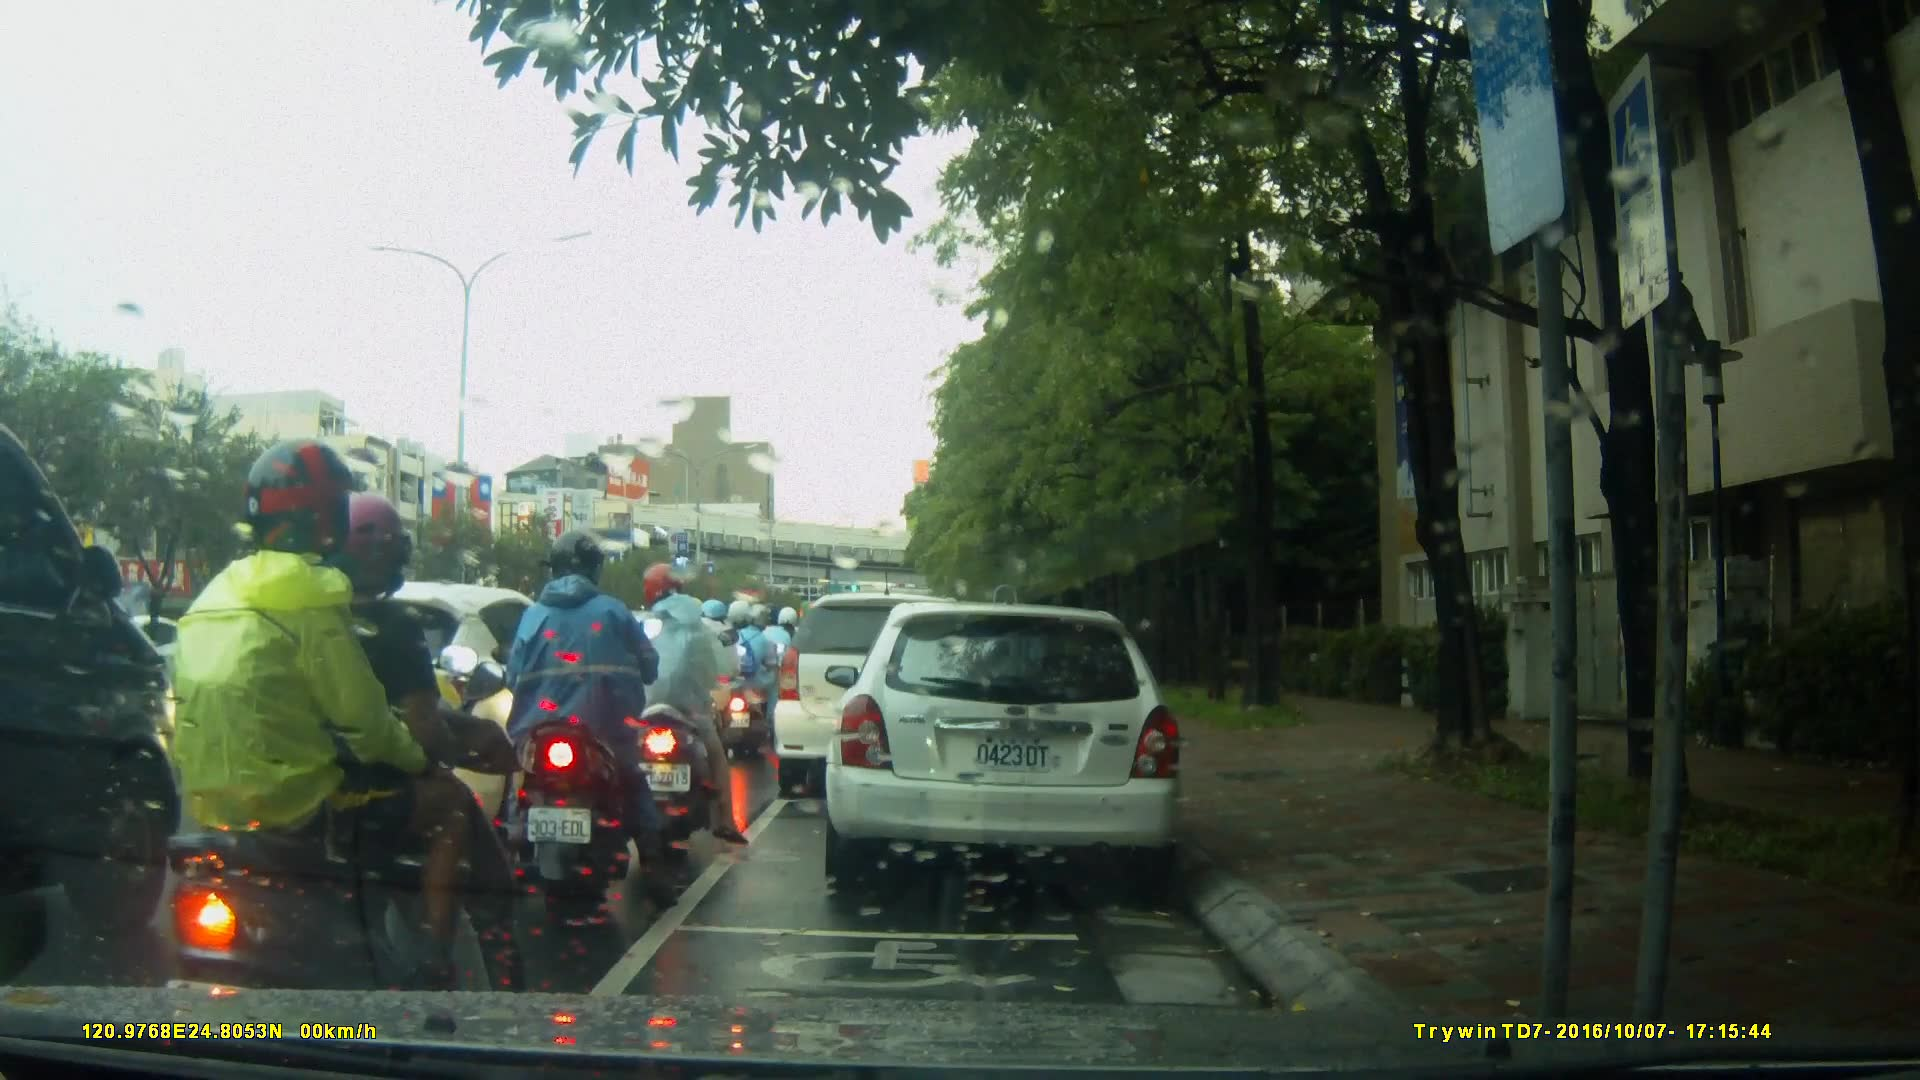rider: (164, 436, 499, 1040), (239, 529, 491, 1009), (503, 535, 680, 900), (621, 563, 740, 832), (676, 594, 755, 776), (752, 603, 805, 736)
vehicle: (1, 413, 186, 987), (822, 604, 1188, 883), (248, 579, 617, 845), (774, 595, 995, 802)
